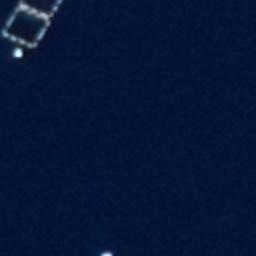square_solid: (2, 1, 53, 51)
